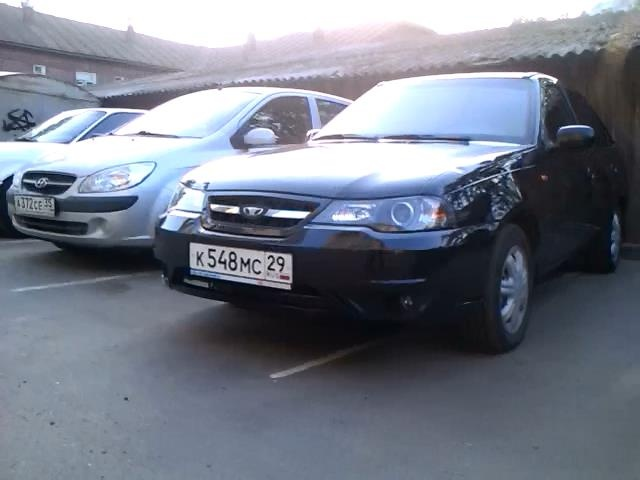car license plate: (188, 237, 295, 292), (12, 190, 56, 218)
